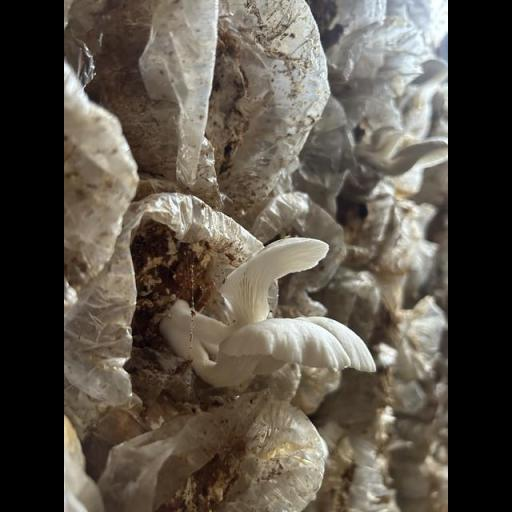White Oyster Mushroom: (165, 216, 394, 412)
